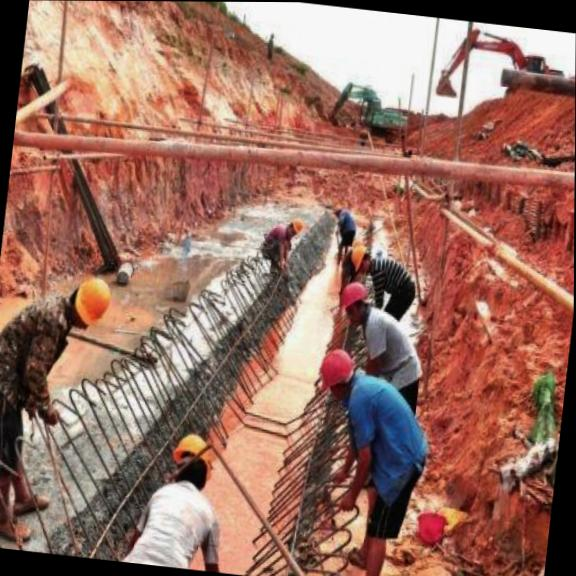no_safety_vest: (338, 376, 428, 508), (0, 285, 68, 428)
